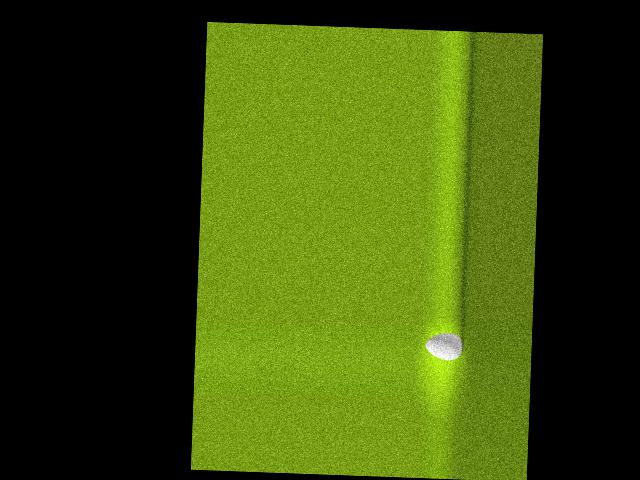egg: (424, 331, 463, 360)
